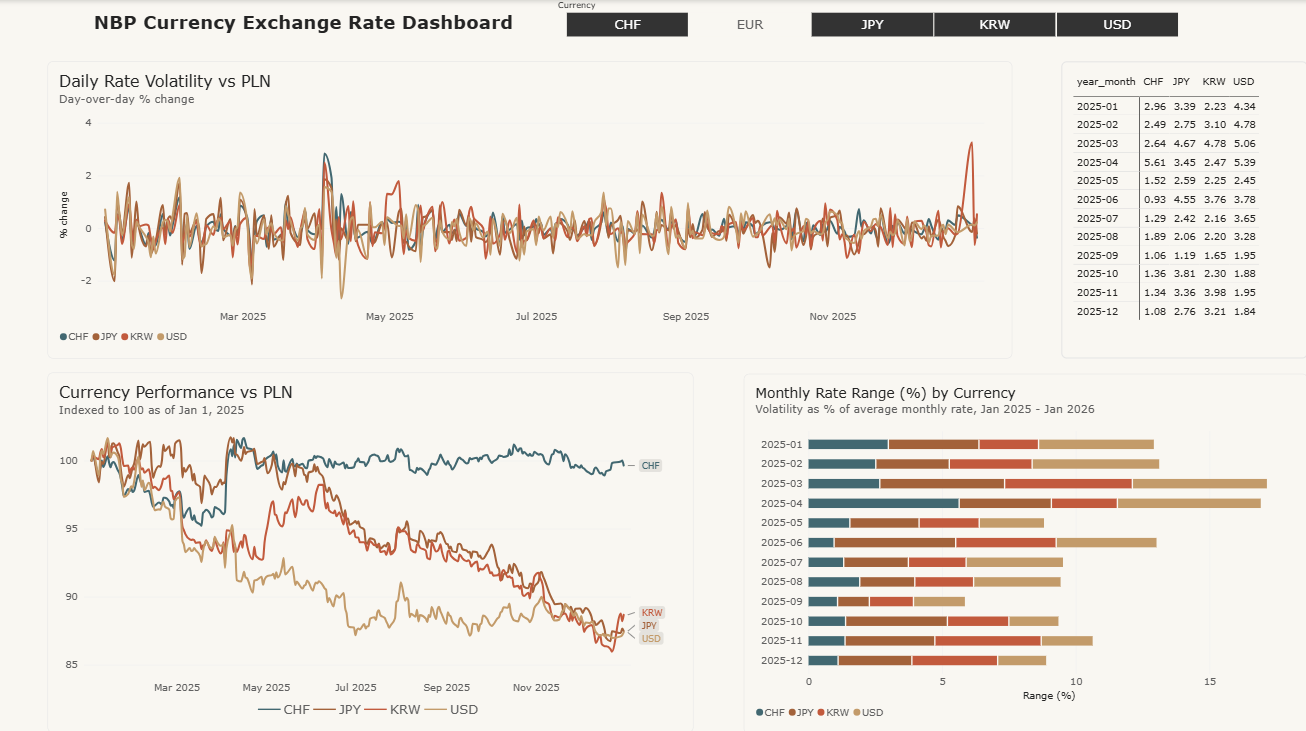

This screenshot's page, from the dashboard's own definition file:
{"tool":"powerbi","page":{"name":"NBP Currency Exchange Rate Dashboard","canvas":[1920,1080],"ordinal":0},"visuals":[{"type":"pivotTable","fields":{"Columns":["rates_monthly_summary.currency"],"Rows":["rates_monthly_summary.year_month"],"Values":["Sum(rates_monthly_summary.range_pct)"]},"box":[1535.9,87.9,357,430.2],"z":0},{"type":"barChart","title":"Monthly Rate Range (%) by Currency","fields":{"Category":["rates_monthly_summary.year_month"],"Series":["rates_monthly_summary.currency"],"Y":["Sum(rates_monthly_summary.range_pct)"]},"box":[1076.4,541.9,816.5,521.7],"z":1000},{"type":"lineChart","title":"Daily Rate Volatility vs PLN","fields":{"Category":["rates_daily_change.effectiveDate"],"Series":["rates_daily_change.currency"],"Y":["Sum(rates_daily_change.daily_change_pct)"]},"box":[69.6,87.9,1396.8,430.2],"z":2000},{"type":"lineChart","title":"Currency Performance vs PLN","fields":{"Category":["rates_indexed.effectiveDate"],"Series":["rates_indexed.currency"],"Y":["Avg(rates_indexed.indexed_rate)"]},"box":[69.6,540,935.5,521.7],"z":3000},{"type":"slicer","fields":{"Values":["rates_daily_change.currency"]},"box":[800,0,924.5,54.9],"z":3001},{"type":"textbox","box":[136.1,14.9,854.9,40.4],"z":3002}]}

Visuals, with their boxes in screenshot pixels (x1, y1, x2, y2), scaled from the page's 1920x1080 canvas onto the 1306x731 screenshot:
pivotTable - rates_monthly_summary.currency x rates_monthly_summary.year_month: {"x1": 1045, "y1": 59, "x2": 1288, "y2": 351}
"Monthly Rate Range (%) by Currency" barChart: {"x1": 732, "y1": 367, "x2": 1288, "y2": 720}
"Daily Rate Volatility vs PLN" lineChart: {"x1": 47, "y1": 59, "x2": 997, "y2": 351}
"Currency Performance vs PLN" lineChart: {"x1": 47, "y1": 366, "x2": 684, "y2": 719}
slicer - rates_daily_change.currency: {"x1": 544, "y1": 0, "x2": 1173, "y2": 37}
textbox: {"x1": 93, "y1": 10, "x2": 674, "y2": 37}
